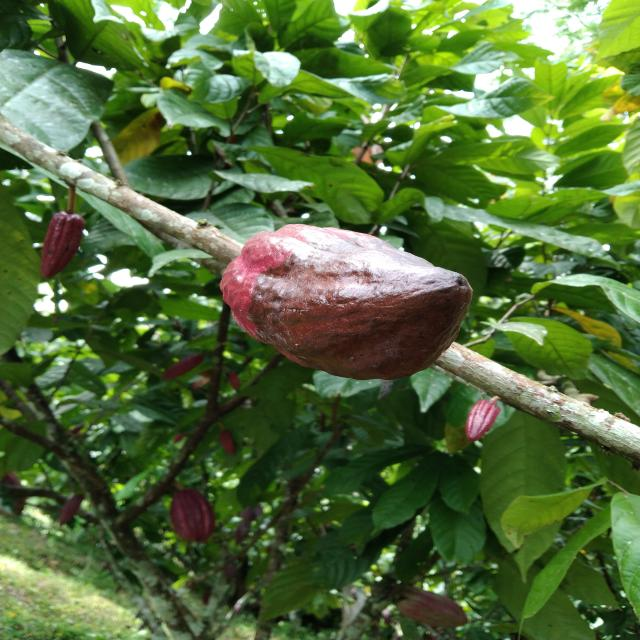Fitoftora: (221, 225, 473, 384)
Sana: (27, 208, 89, 280), (388, 584, 476, 626), (165, 490, 229, 542), (460, 398, 499, 438)
